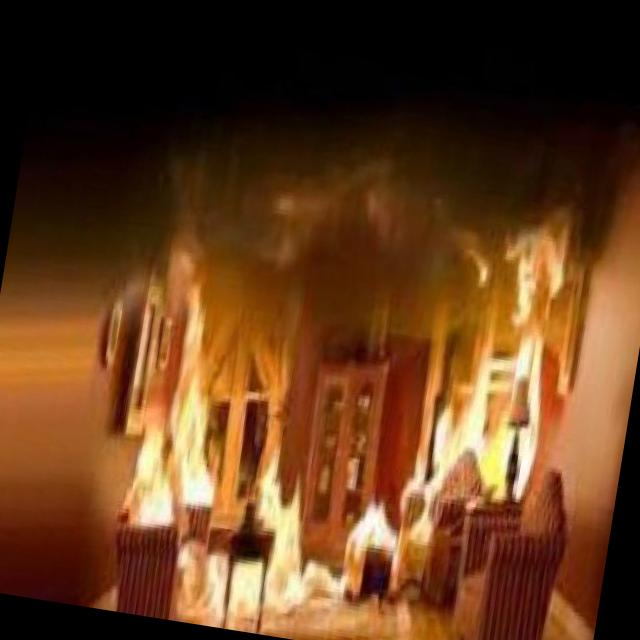Fire_Dangerous: (46, 205, 393, 639), (352, 189, 590, 616)
